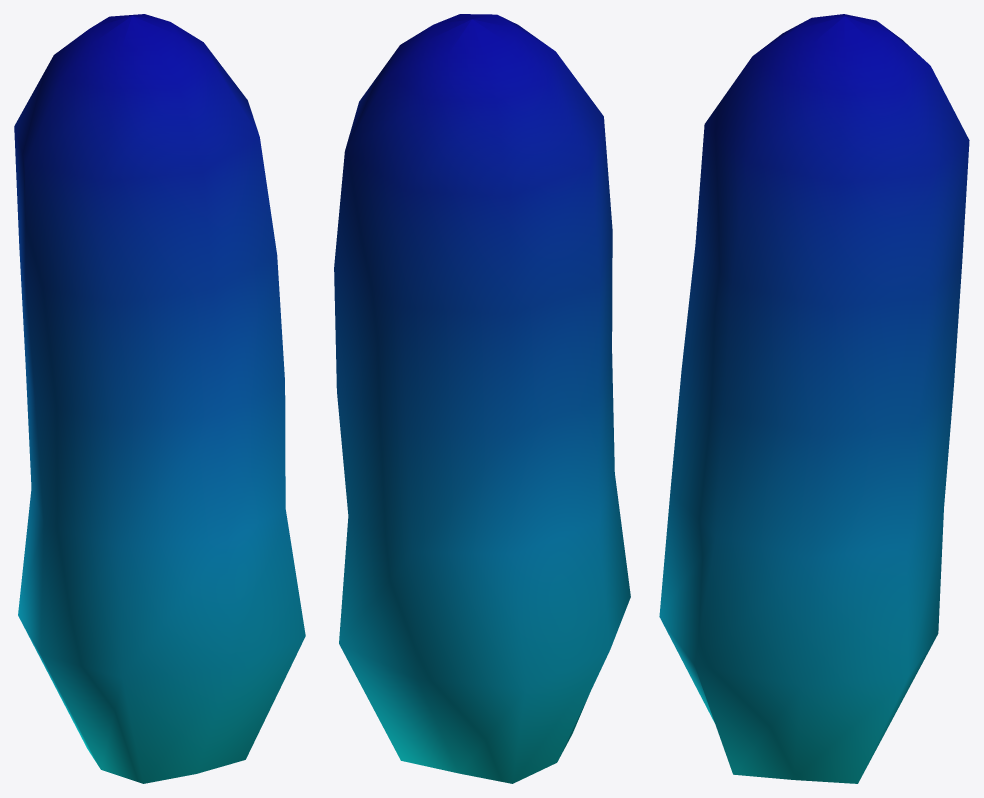
File: Saguaro1.fbx
3 views of the same model, side by side, from view 1: azimuth 30°, elevation 25°; view 2: azimuth 150°, elevation 25°; view 3: azimuth 270°, elevation 25° (orthographic). The views are drawn at different scales.
Visible parts, largest first — view 1: Saguaro1_LOD0; view 2: Saguaro1_LOD0; view 3: Saguaro1_LOD0.
Part boxes in pixels (left/top/right/bottom): Saguaro1_LOD0: left=14, top=14, right=305, bottom=783; Saguaro1_LOD0: left=334, top=14, right=630, bottom=783; Saguaro1_LOD0: left=659, top=14, right=969, bottom=783.
Size of what is drawn, in the model's own units: 32.06 by 91.13 by 34.75.
